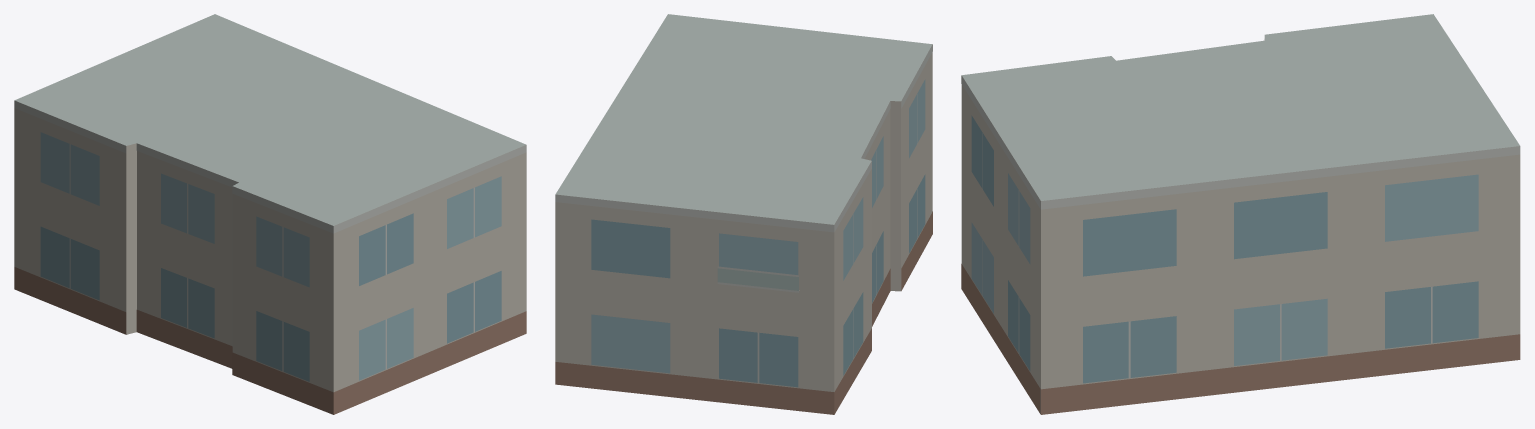
File: survey-upis-32709739.glb
The picture shows the model from 3 angles, left to right: view 1: azimuth 30°, elevation 25°; view 2: azimuth 150°, elevation 25°; view 3: azimuth 270°, elevation 25°; orthographic projection. The views are drawn at different scales.
Visible parts, largest first — view 1: survey-upis-32709739.tmp; view 2: survey-upis-32709739.tmp; view 3: survey-upis-32709739.tmp.
Boxes of the visible parts, bbox=[...] form: survey-upis-32709739.tmp: bbox=[14, 14, 526, 414]; survey-upis-32709739.tmp: bbox=[555, 14, 932, 414]; survey-upis-32709739.tmp: bbox=[961, 14, 1520, 414].
Bounding box in the file's own units: 11.46 × 6.1 × 14.46.
